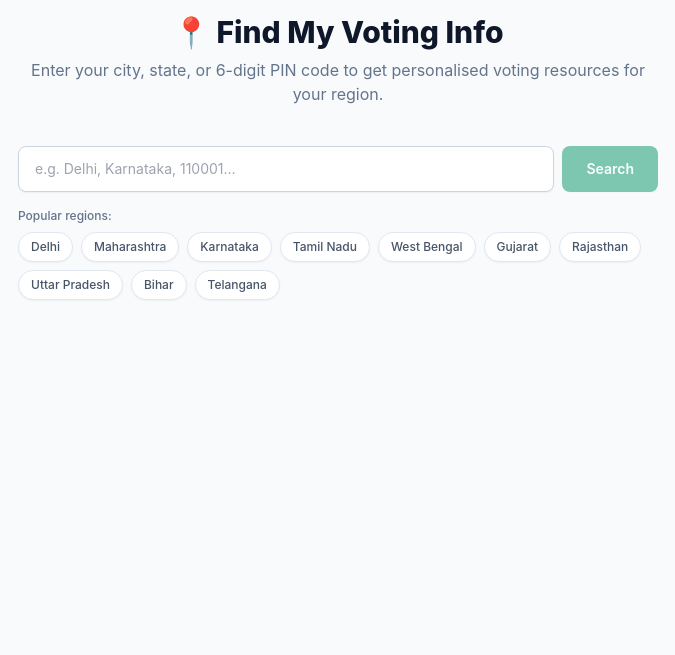
Scenario: VotingInfoPage › shows result card after successful search
Type "Delhi" into the field named "city, state, or pin code".
click(286, 169); type("Delhi")  # box [18,146,554,192]
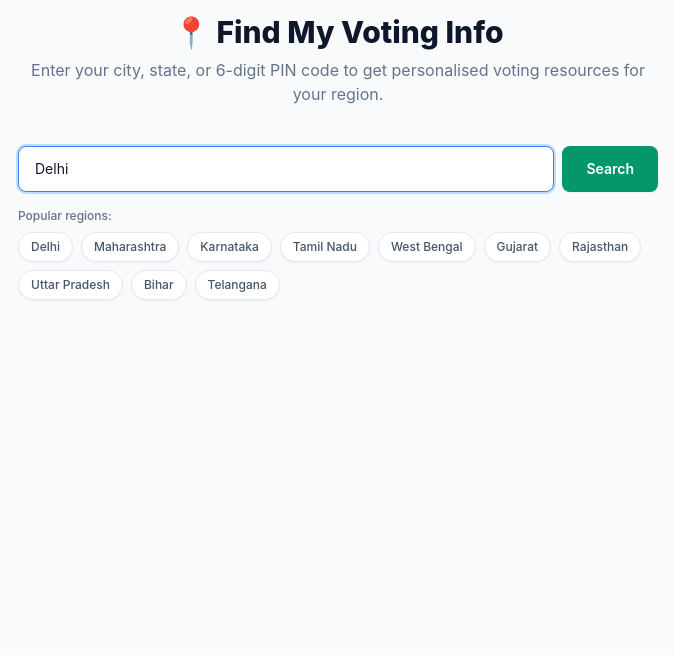
Click the button "Search".
click(610, 169)  # box [562,146,658,192]
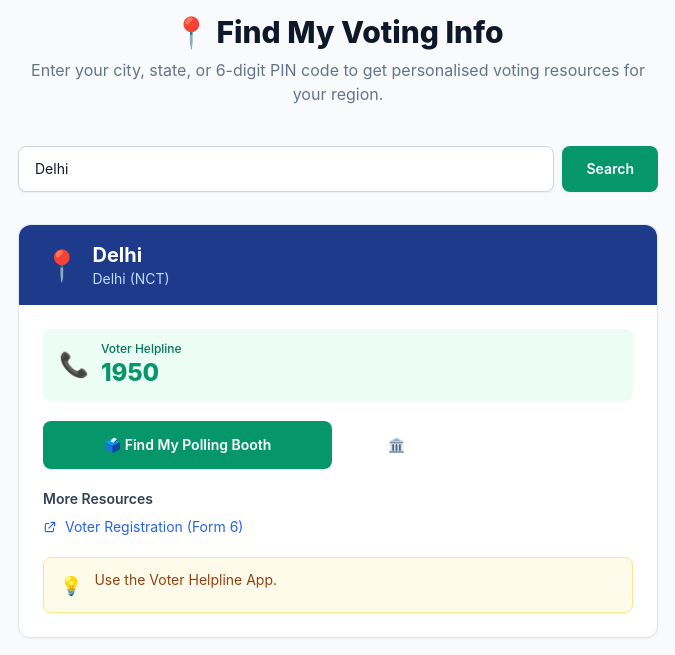
Check: the heading "Delhi" is shown, box [92,243,142,267]
Check: the text "1950" is shown, box [101,358,159,387]
